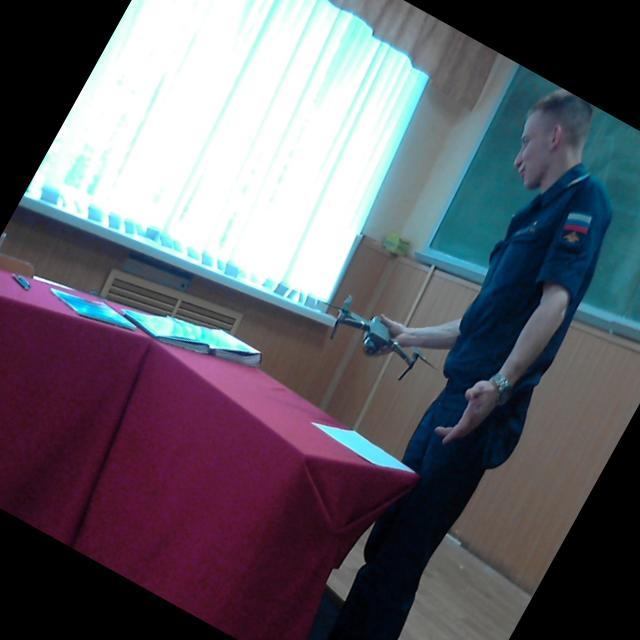drone: (308, 264, 459, 402)
